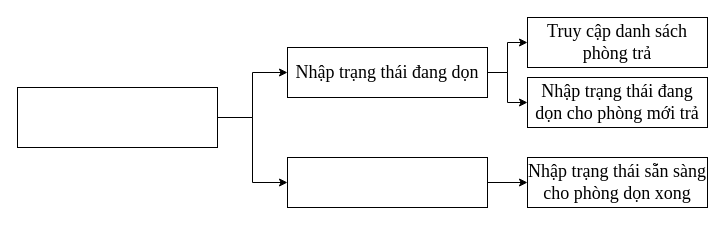
This 725x225 diagram has some shape labels left out. Each missing label, with the centre of its shape:
Chuyển trạng thái sẵn sàng: pixel 387 182
Dọn phòng: pixel 117 117
